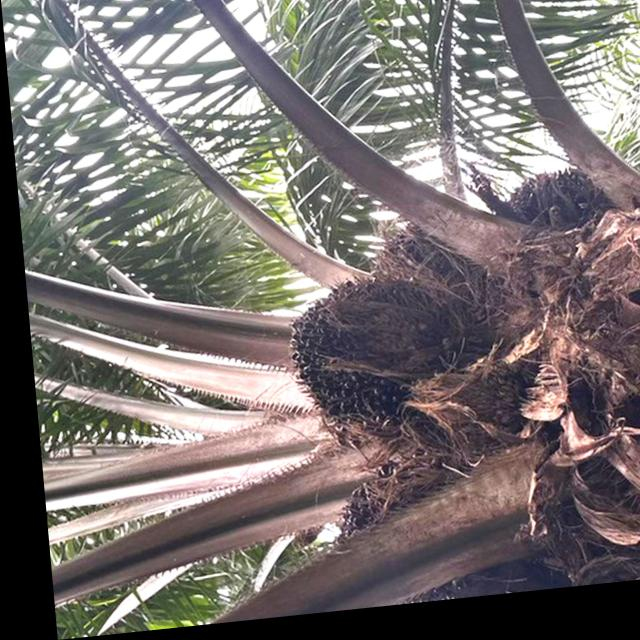unripe: (270, 271, 456, 449)
